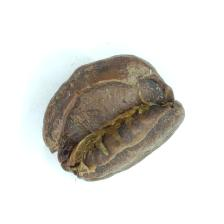NG: (55, 76, 165, 165)
